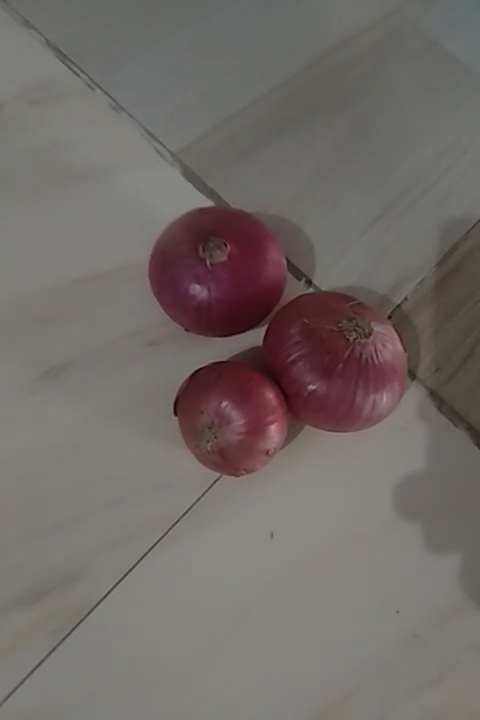onion: (262, 299, 417, 429), (150, 203, 267, 347), (175, 366, 286, 464)
